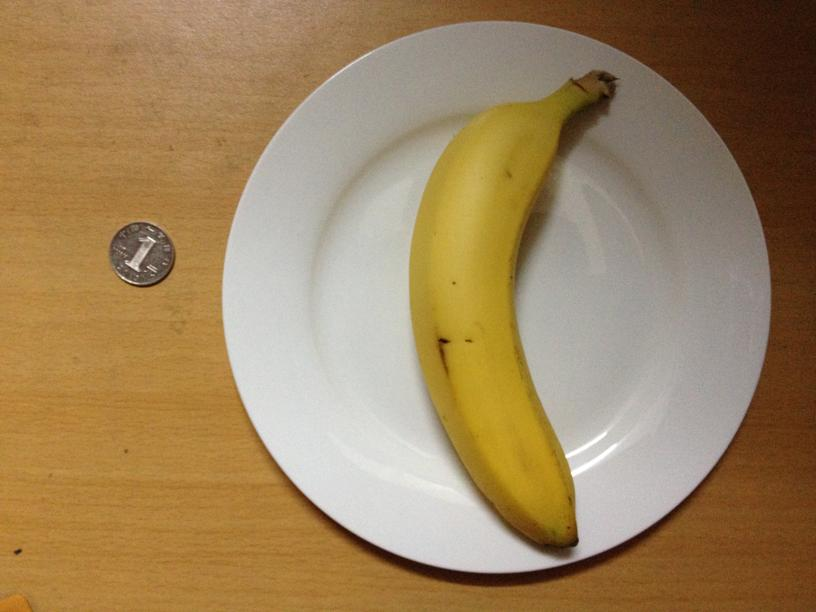banana: (407, 72, 580, 550)
coin: (108, 218, 176, 286)
